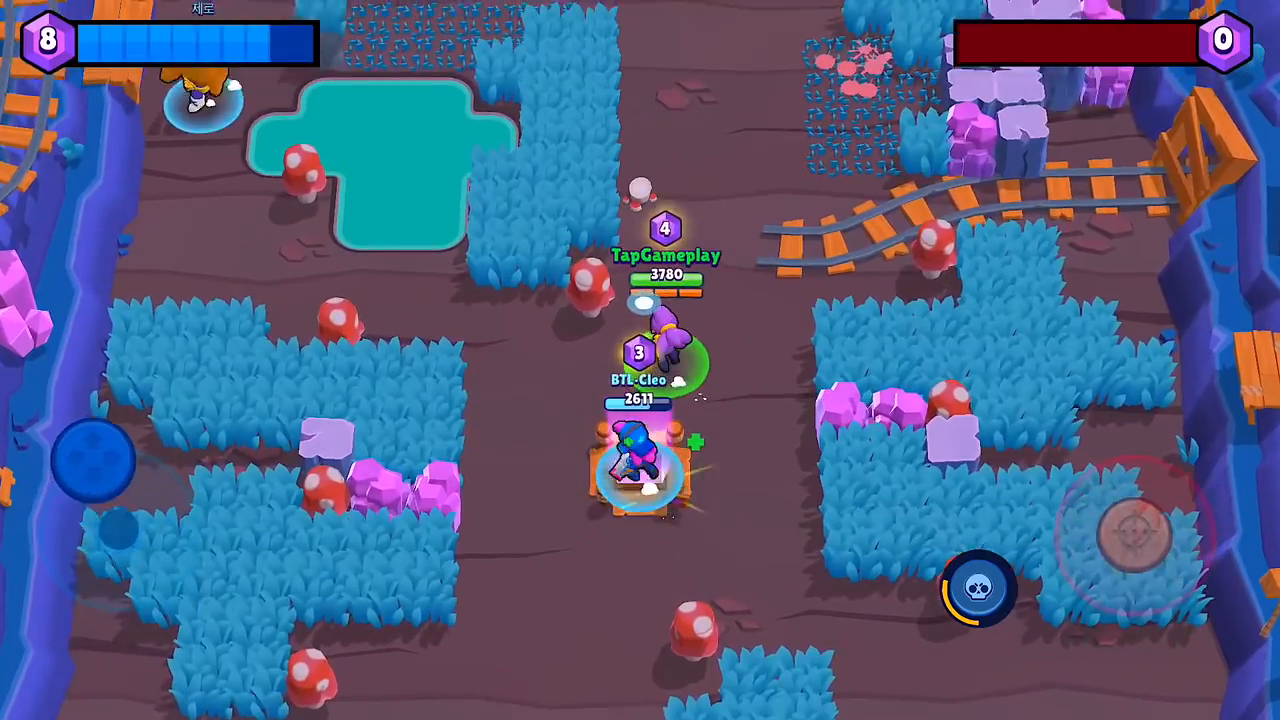move_stick: (57, 418, 135, 499)
